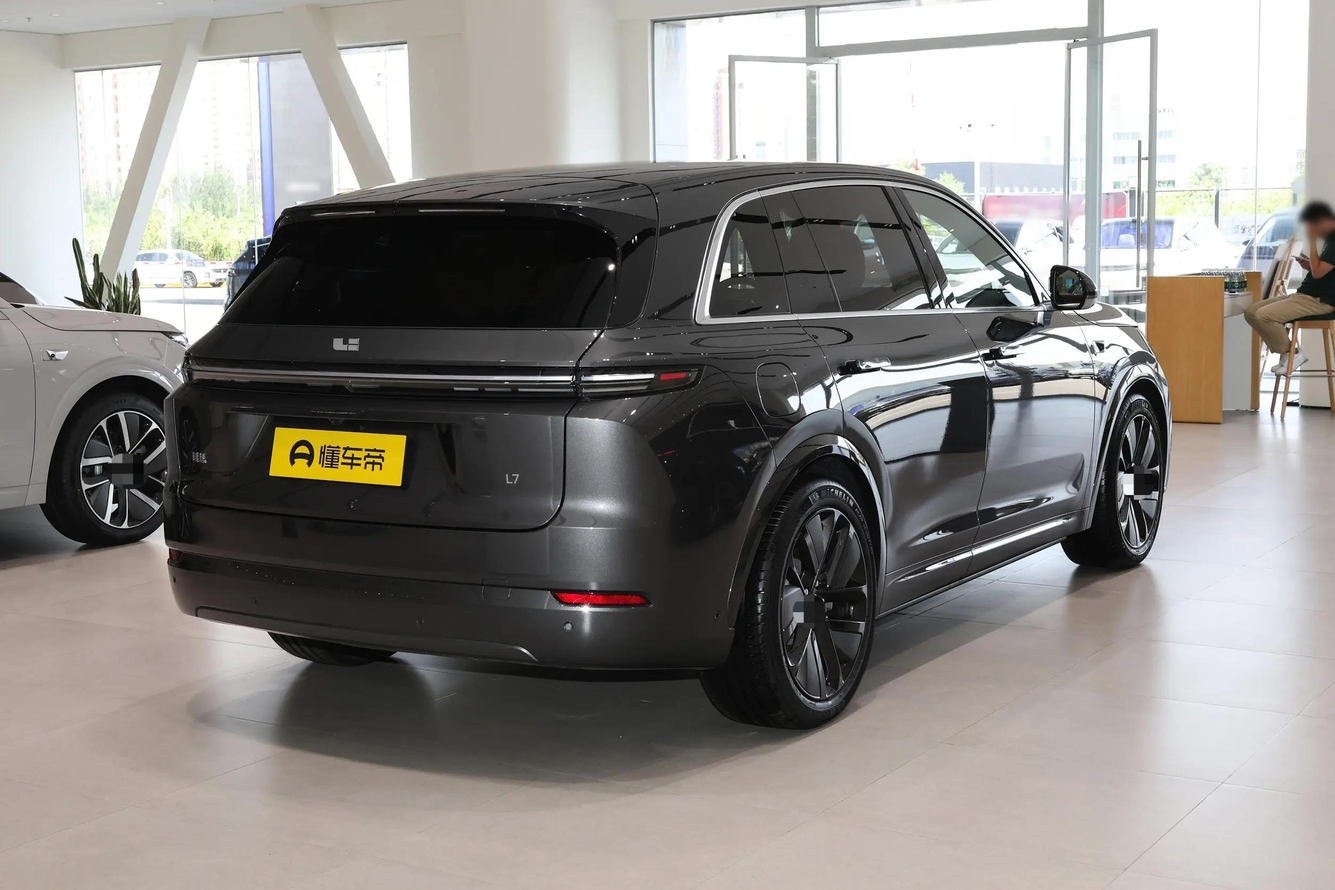Li Auto: (332, 337, 359, 351)
